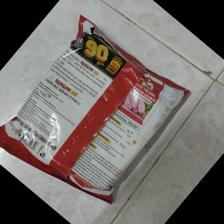Kokomi: (1, 16, 191, 205)
